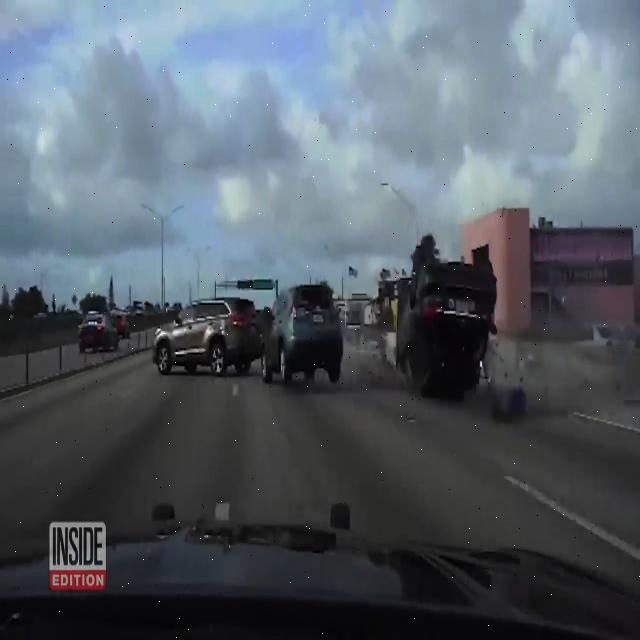accident: (391, 240, 504, 409)
